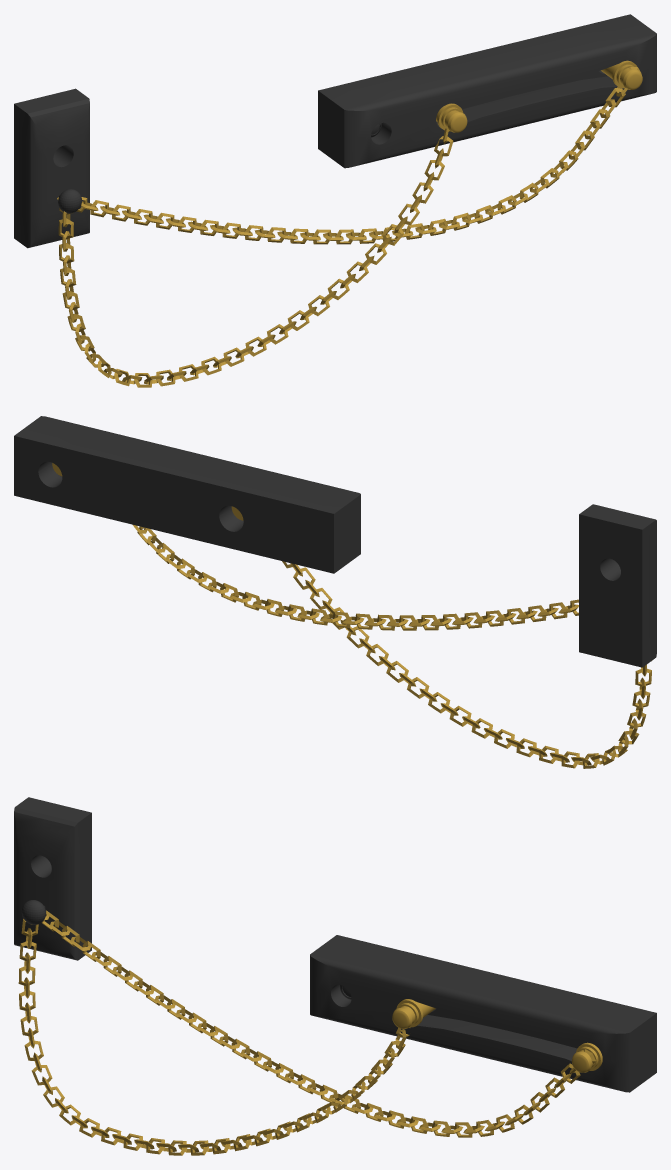
File: цепочки в двух состояниях.fbx
3 views of the same model, one above another, from view 1: azimuth 30°, elevation 25°; view 2: azimuth 150°, elevation 25°; view 3: azimuth 330°, elevation 25° (orthographic). The views are drawn at different scales.
Visible parts, largest first — view 1: Sphere.006, Torus.002, Torus.001, Cylinder.034, Cylinder.001; view 2: Sphere.006, Torus.002, Torus.001; view 3: Sphere.006, Torus.002, Torus.001, Cylinder.001, Cylinder.034.
Boxes of the visible parts, box(x1,y1,x2,y2) form: Sphere.006: box(14, 14, 656, 248); Torus.002: box(57, 66, 640, 244); Torus.001: box(58, 128, 453, 387); Cylinder.034: box(601, 60, 642, 89); Cylinder.001: box(436, 103, 467, 132); Sphere.006: box(14, 416, 656, 667); Torus.002: box(133, 525, 578, 630); Torus.001: box(282, 561, 651, 768); Sphere.006: box(14, 797, 656, 1092); Torus.002: box(41, 910, 595, 1137); Torus.001: box(18, 919, 411, 1155); Cylinder.001: box(392, 999, 435, 1028); Cylinder.034: box(571, 1042, 602, 1072).
Bounding box in the file's own units: 0.4582 × 3.94 × 1.73.
